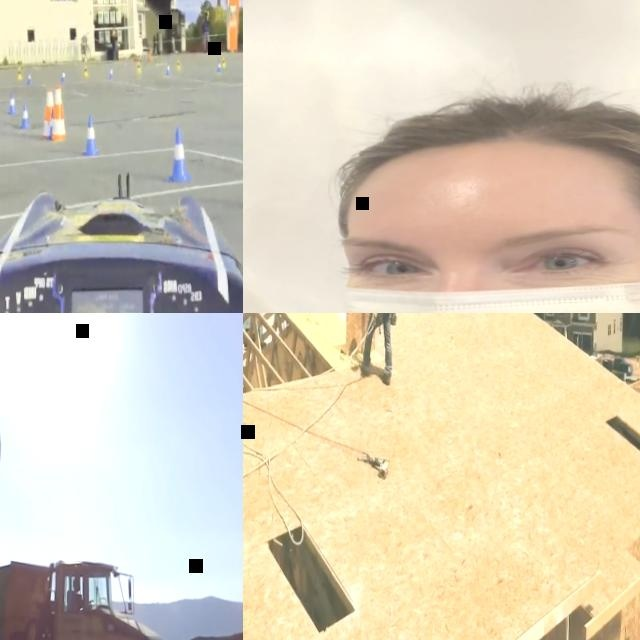Mask: (349, 230, 640, 313)
NO-Hardhat: (341, 83, 640, 195)
Person: (243, 76, 640, 313), (357, 313, 393, 388), (69, 584, 83, 614)
Safety Cone: (167, 126, 192, 184), (51, 87, 66, 143), (82, 115, 99, 159), (41, 88, 54, 143), (45, 106, 56, 142), (20, 101, 31, 130), (7, 90, 17, 116), (106, 67, 113, 82), (26, 72, 32, 87), (16, 67, 22, 81), (165, 63, 170, 77), (82, 63, 87, 77), (136, 62, 141, 75), (61, 71, 66, 83), (221, 58, 226, 69), (216, 61, 220, 73), (176, 61, 180, 73)
machinery: (0, 552, 174, 640)
vehicle: (0, 162, 243, 313), (602, 356, 633, 377)
